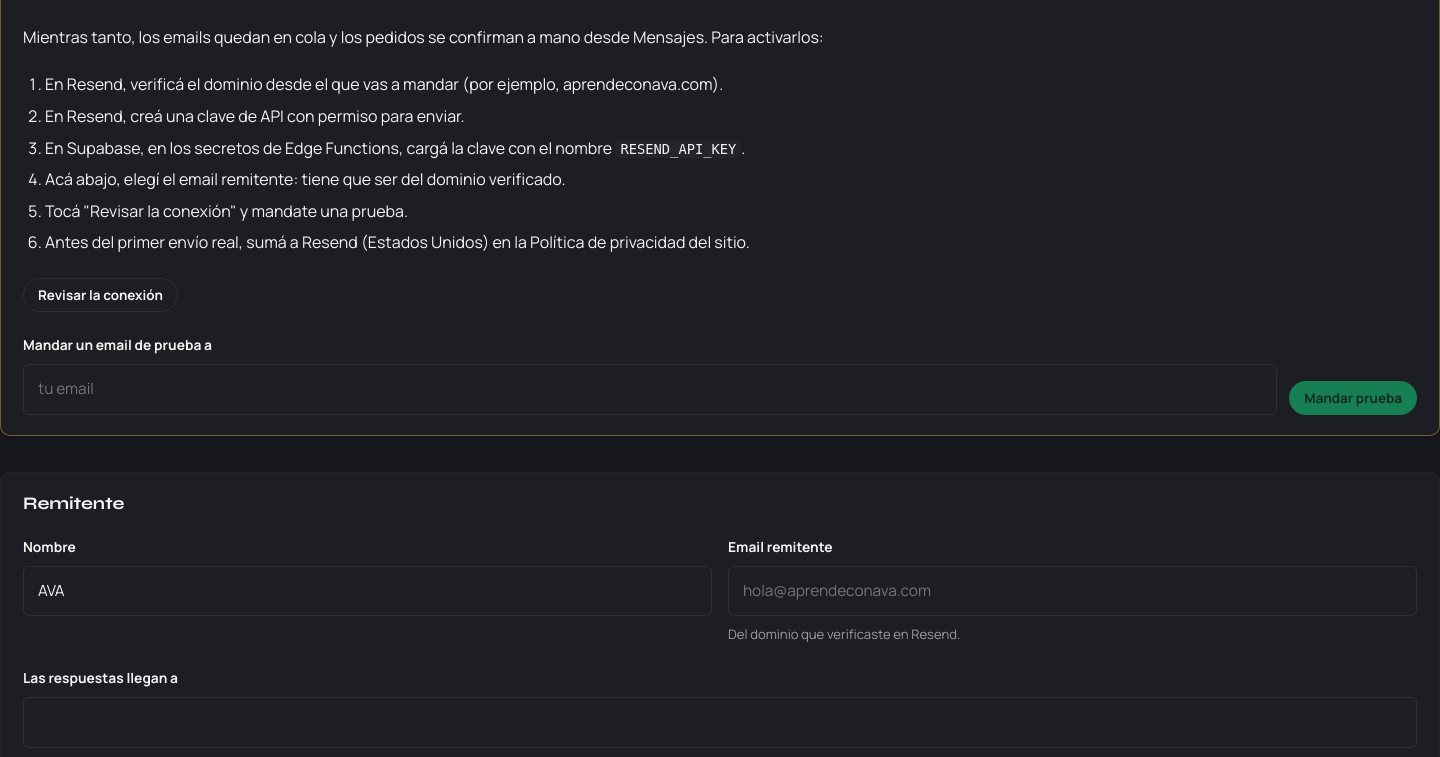
Test case: ConfigPage › la prueba muestra por qué no sale
(page scrolled)
In the field labelled "Mandar un email de prueba a": (650, 389) [23,364,1277,415], type "yo@example.com"
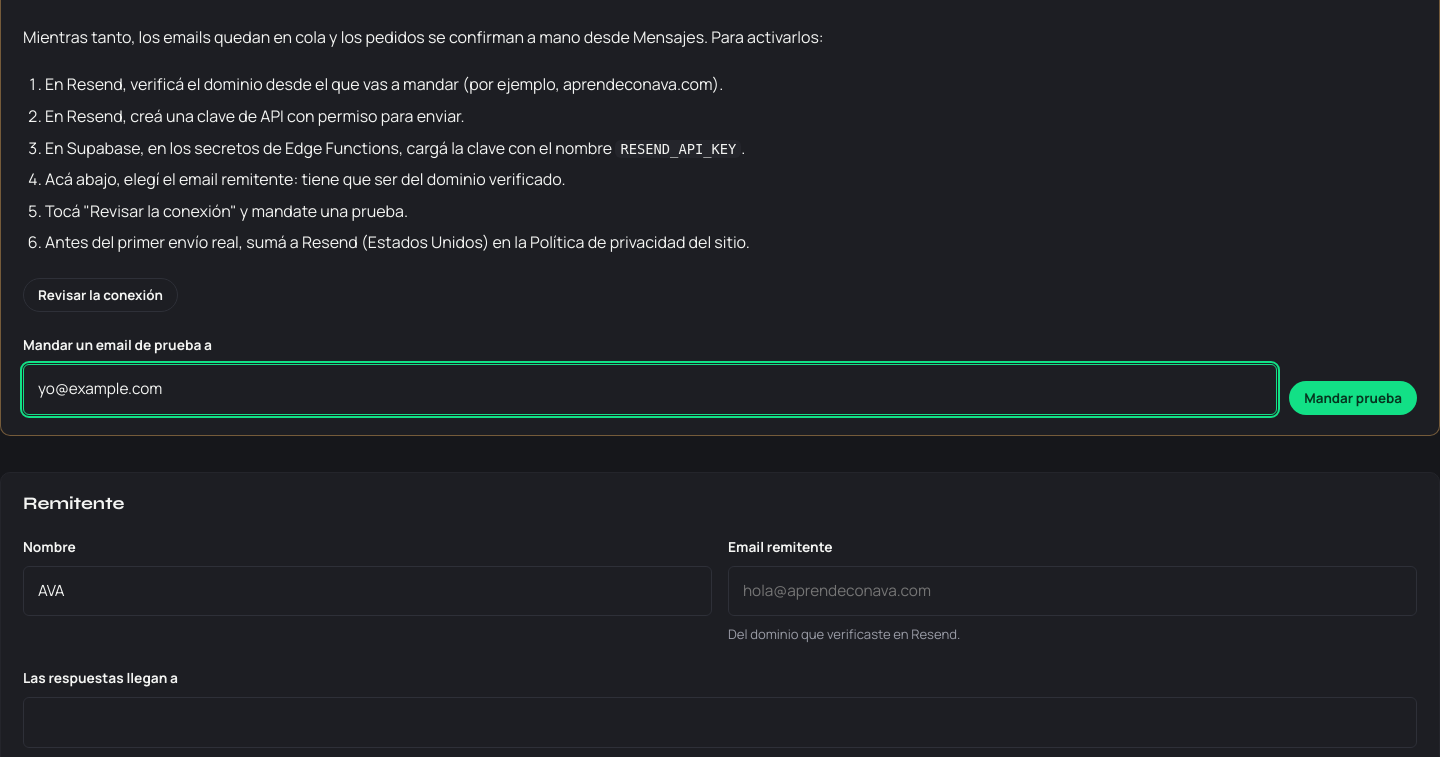
Click the button "Mandar prueba": (1353, 398) [1289,380,1417,415]
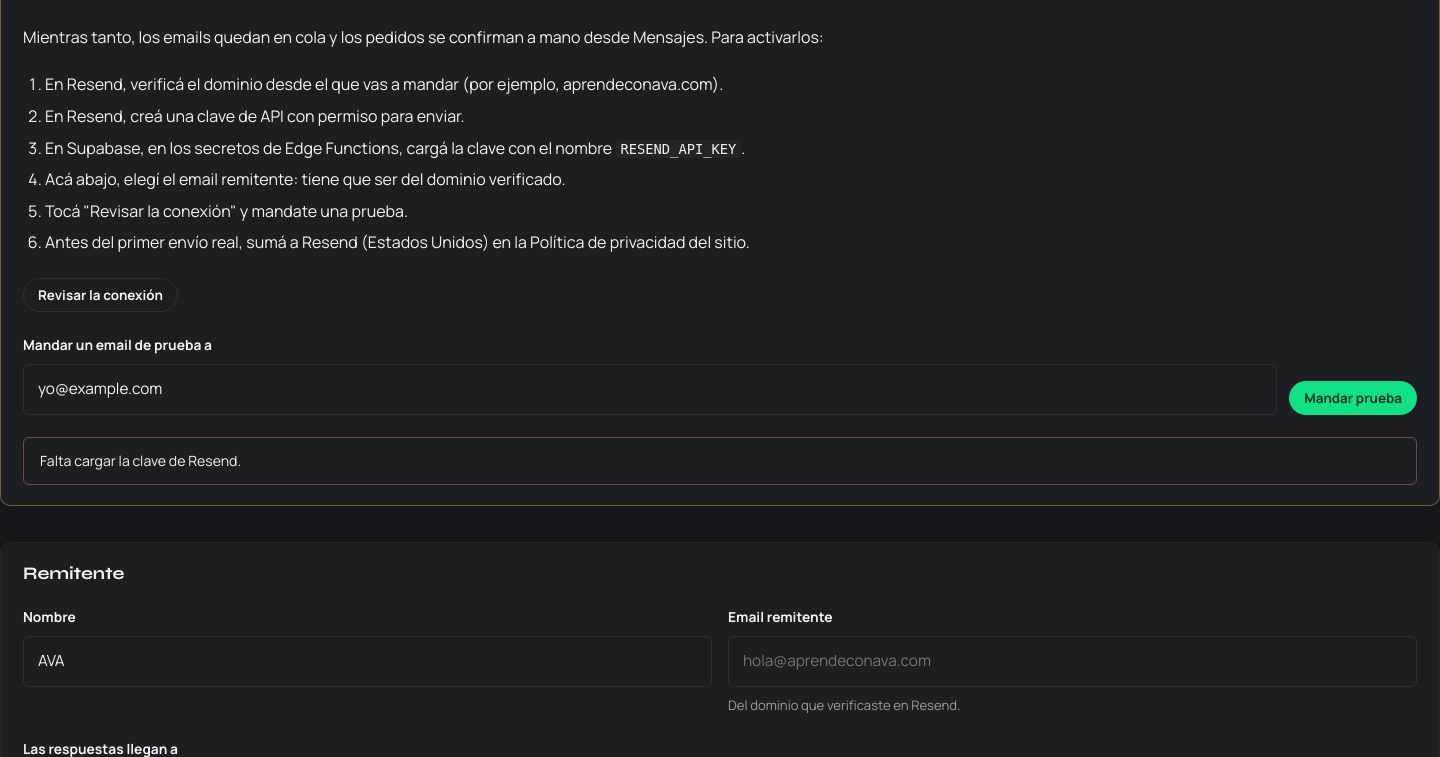
Now the text "Falta cargar la clave de Resend." is shown, box [23,437,1417,485]
